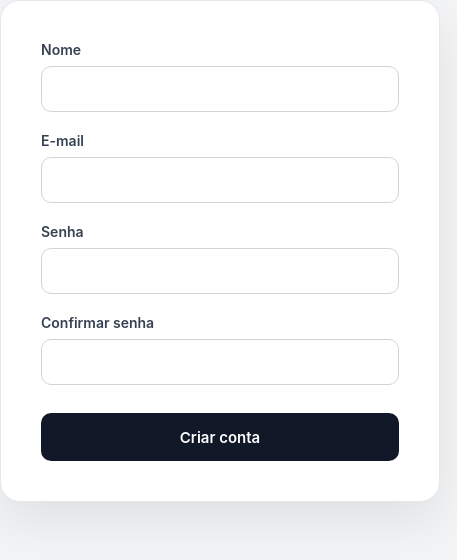
Scenario: RegisterForm › should display an error when the password is too short
Step 1. Type "Senha1" into the password field labelled "Senha" → point(220, 271), box [41, 248, 399, 294]
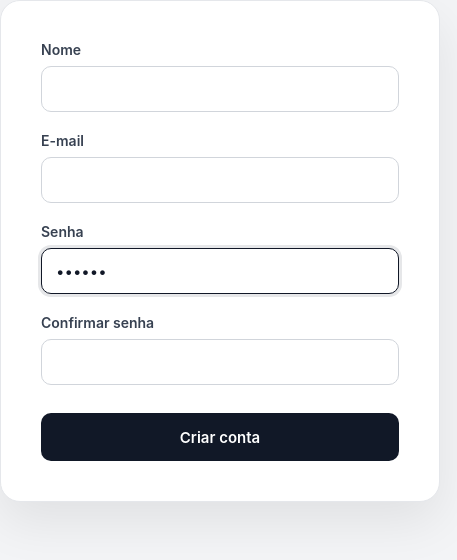
Step 2. Press Tab
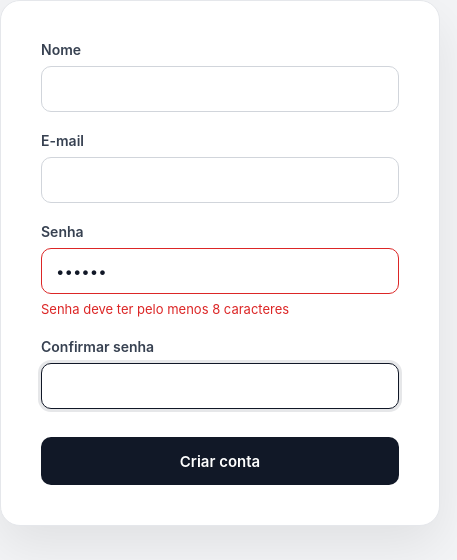
Now the text "Senha deve ter pelo menos 8 caracteres" is shown, box [41, 301, 289, 317]
